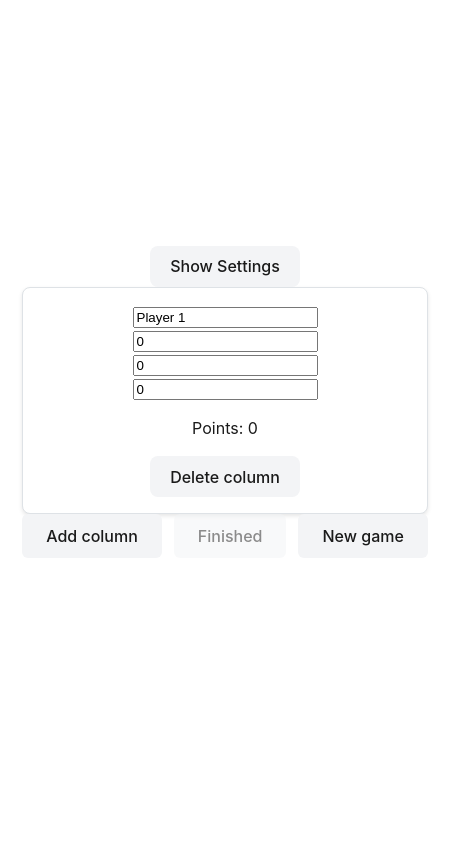
Test case: PointsCalculator › handles tie correctly
This screenshot has width=451, height=864.
Click the button "Add column" at (92, 536), box [22,514,162,558]
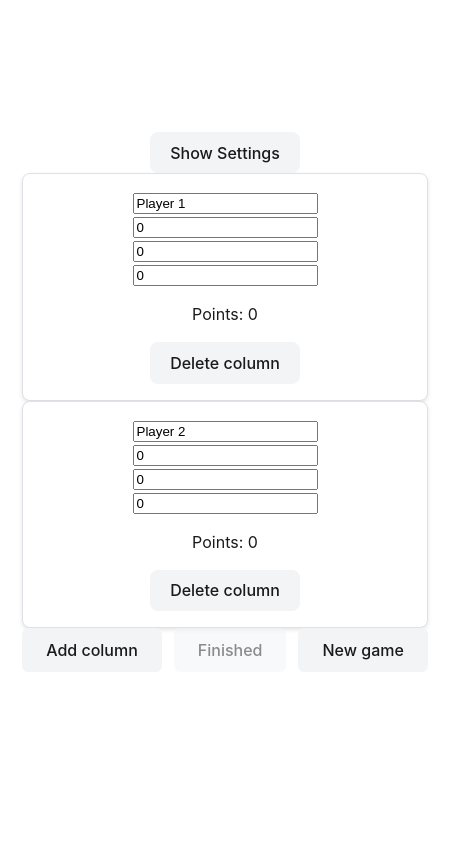
Replace the text in the number field named "Round 1 Points for Player 1" with "5" at (225, 228), box [132,217,318,238]
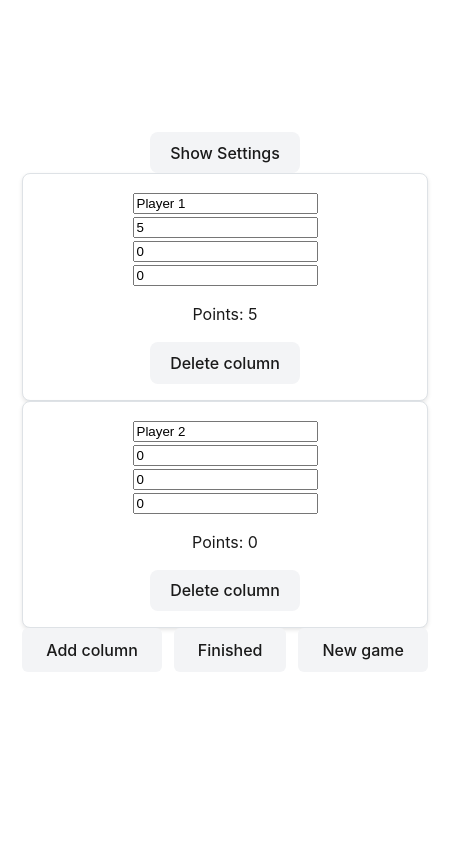
Replace the text in the number field named "Round 1 Points for Player 2" with "5" at (225, 455), box [132,445,318,466]
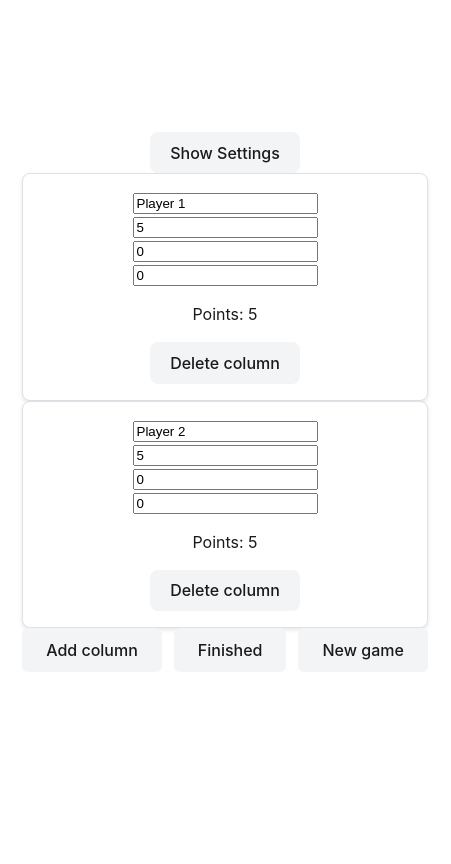
Click the button "Finished" at (230, 650), box [174,628,286,672]
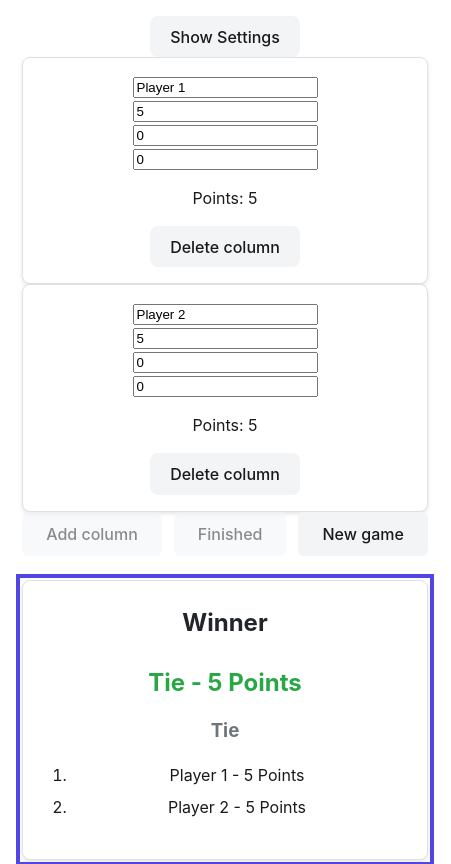
Result: the text "Tie - 5 Points" is shown at [148,668,302,697]
